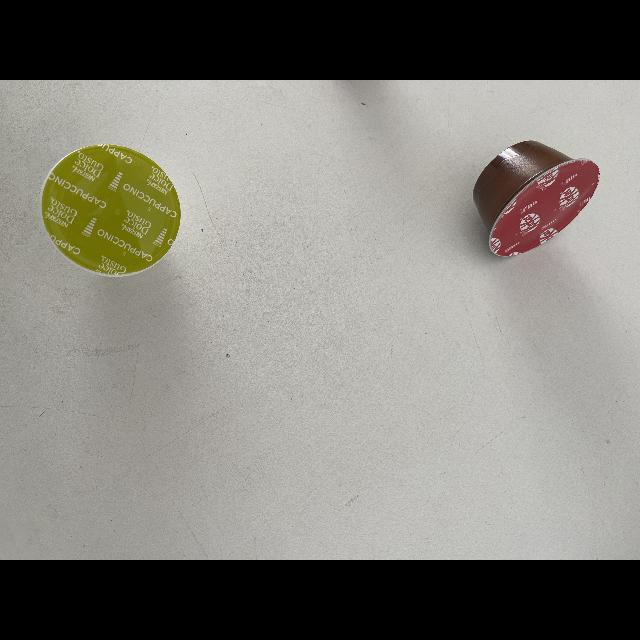intact_capsule: (32, 138, 192, 282), (468, 133, 610, 263)
